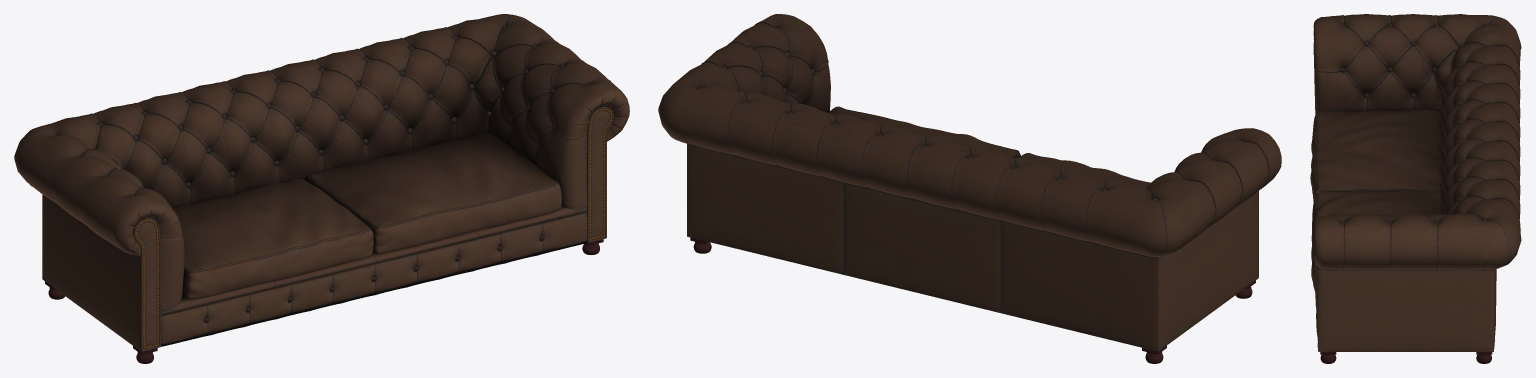
File: sofa4.glb
The picture shows the model from 3 angles, left to right: view 1: azimuth 30°, elevation 25°; view 2: azimuth 150°, elevation 25°; view 3: azimuth 270°, elevation 25°; orthographic projection. The views are drawn at different scales.
Parts seen in each view (by area): view 1: pasted__sofabody2_pasted__sofabody2Shape_bakedmtl2_0, pasted__sodametals_pasted__coopermat1_0, pasted__sofabuttons_pasted__buttonsmat1_0, pasted__sofalegs_pasted__sofalegsShape_bakedmtl2_0; view 2: pasted__sofabody2_pasted__sofabody2Shape_bakedmtl2_0, pasted__sofalegs_pasted__sofalegsShape_bakedmtl2_0; view 3: pasted__sofabody2_pasted__sofabody2Shape_bakedmtl2_0, pasted__sofalegs_pasted__sofalegsShape_bakedmtl2_0, pasted__sofabuttons_pasted__buttonsmat1_0.
Boxes of the visible parts, x1=… form: pasted__sofabody2_pasted__sofabody2Shape_bakedmtl2_0: x1=14, y1=14, x2=629, y2=351; pasted__sodametals_pasted__coopermat1_0: x1=135, y1=108, x2=612, y2=349; pasted__sofabuttons_pasted__buttonsmat1_0: x1=54, y1=26, x2=590, y2=322; pasted__sofalegs_pasted__sofalegsShape_bakedmtl2_0: x1=45, y1=239, x2=603, y2=363; pasted__sofabody2_pasted__sofabody2Shape_bakedmtl2_0: x1=658, y1=14, x2=1281, y2=351; pasted__sofalegs_pasted__sofalegsShape_bakedmtl2_0: x1=690, y1=237, x2=1255, y2=363; pasted__sofabody2_pasted__sofabody2Shape_bakedmtl2_0: x1=1310, y1=14, x2=1521, y2=351; pasted__sofalegs_pasted__sofalegsShape_bakedmtl2_0: x1=1320, y1=352, x2=1492, y2=363; pasted__sofabuttons_pasted__buttonsmat1_0: x1=1341, y1=23, x2=1489, y2=222.
Size of the model in its own units: 1215 by 373 by 482.
4 materials, 1 textured.
